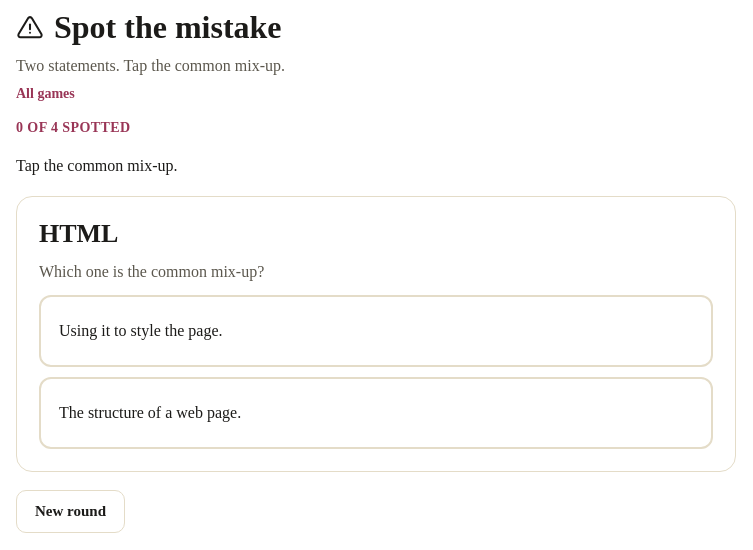
it: SpotPage › moves to the next term after a spot
Click the button "Using it to style the page." at point(141, 331), box [39, 295, 713, 367]
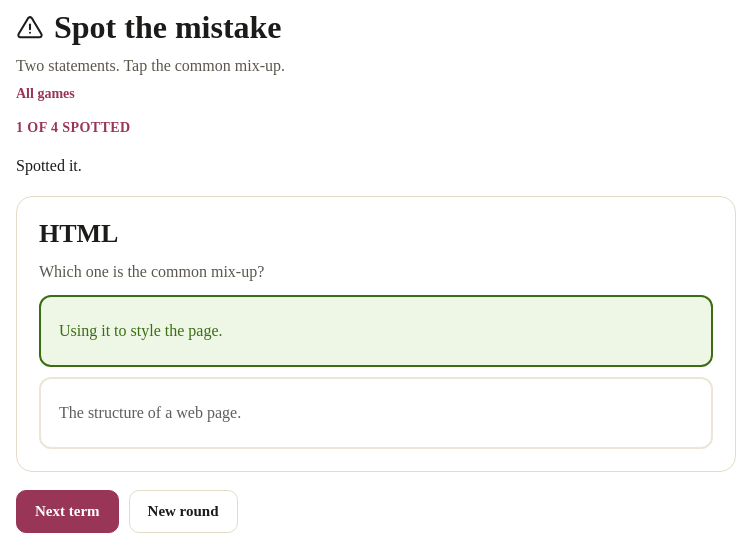
Click the button "Next term" at point(67, 512), box [16, 490, 118, 533]
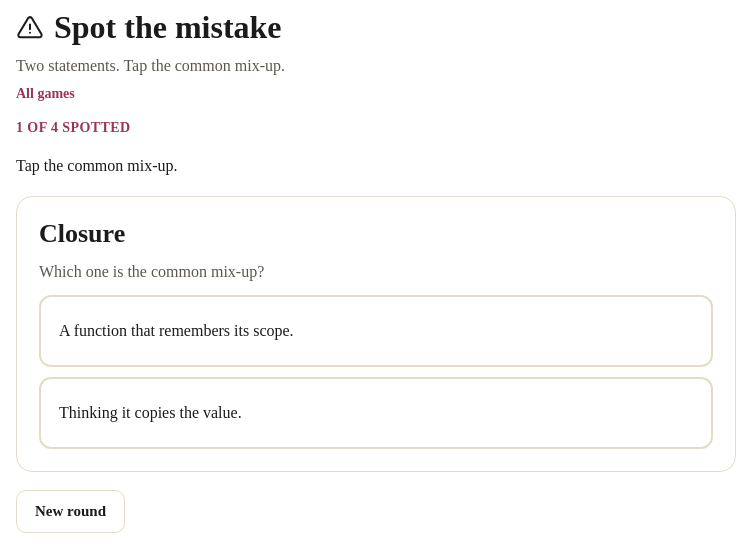
Expected: the text "1 of 4 spotted" is shown, [16, 120, 131, 135]
Expected: the text "HTML" is gone
